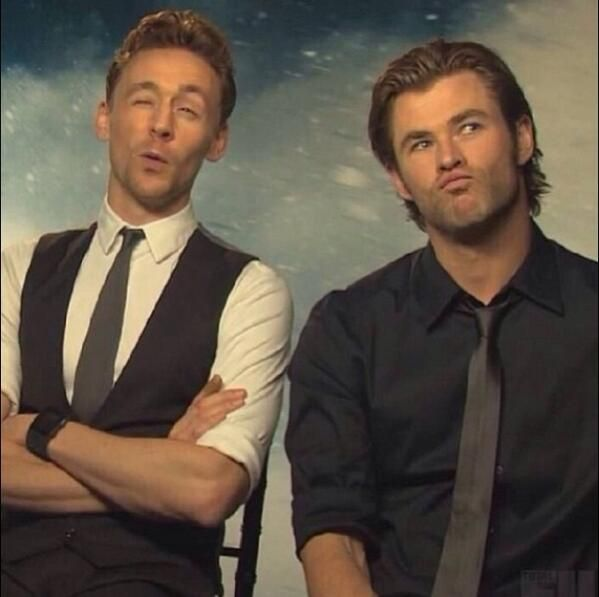without_mask: (383, 67, 534, 232), (94, 57, 231, 209)
